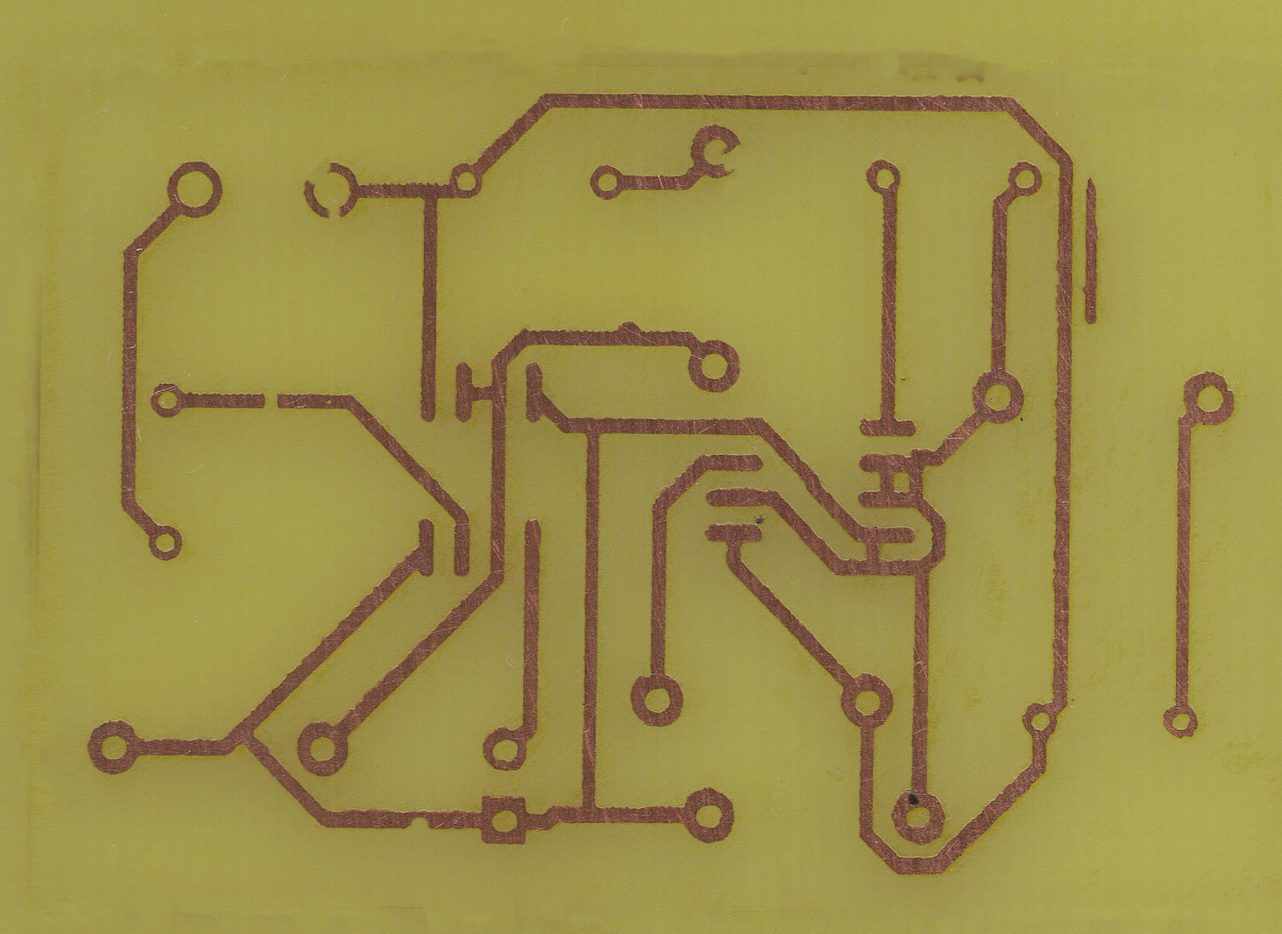missing_hole: (304, 163, 361, 224), (687, 121, 741, 179)
mouse_bite: (401, 809, 443, 835)
open_circuit: (250, 387, 294, 414)
short: (849, 520, 892, 582)
spur: (611, 320, 645, 353)
spurious_copper: (1082, 178, 1101, 328)
